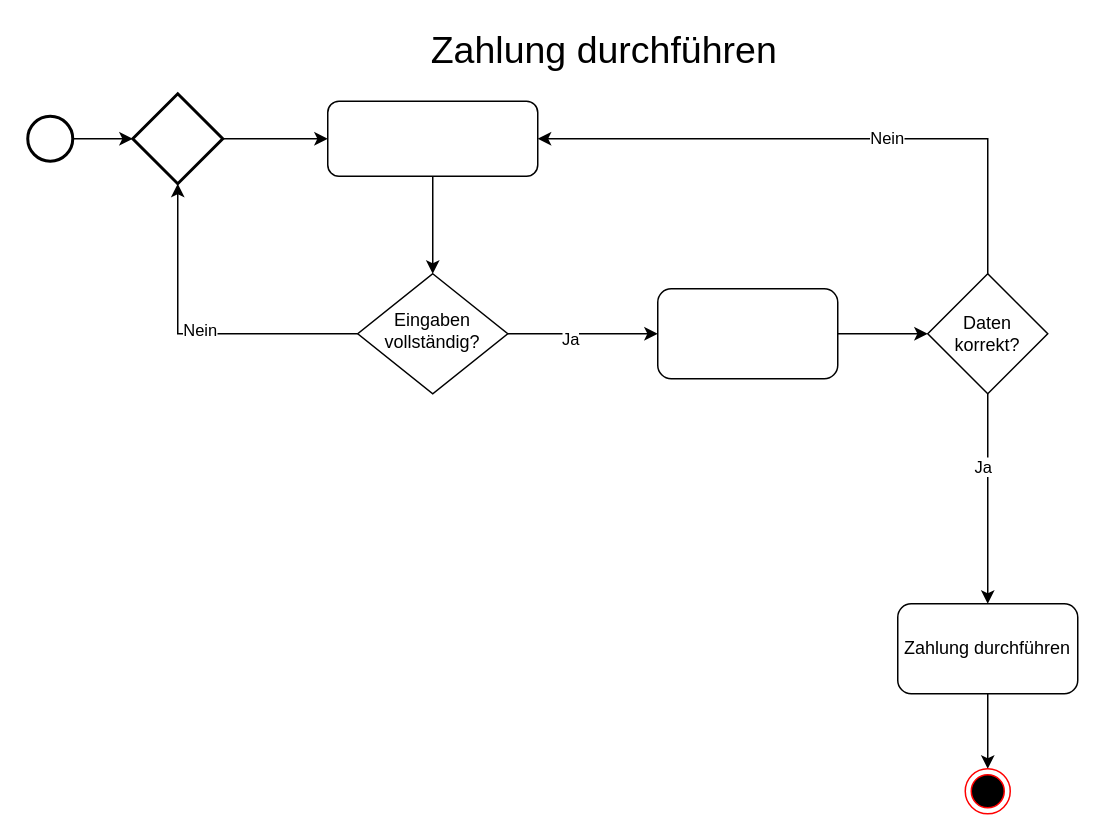
Image size: 1104x840. Some labels were removed from this diagram. The shapes that lost their labels are listed below. From the top down, each one's centre as x and y in pixels, then its label:
[432,138]: Zahlungsinformationen eingeben
[747,333]: Daten validieren
